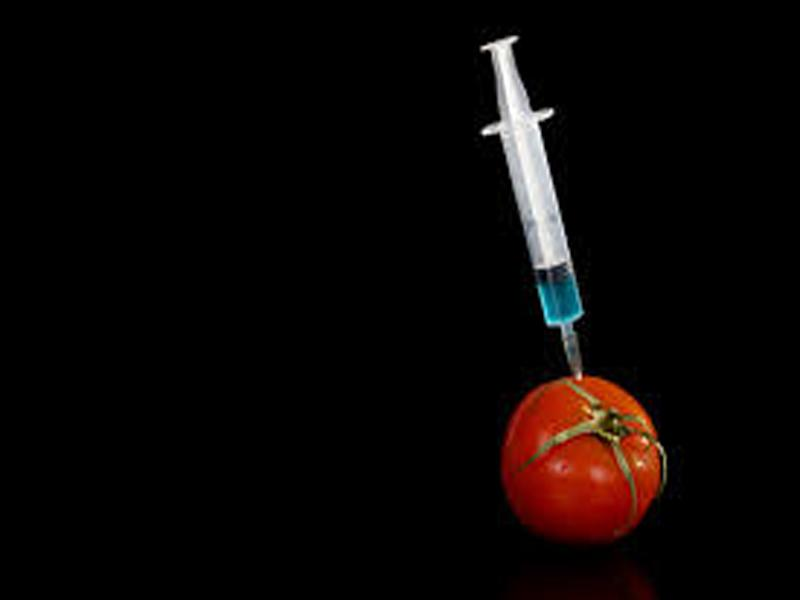Tomato: (499, 374, 665, 538)
